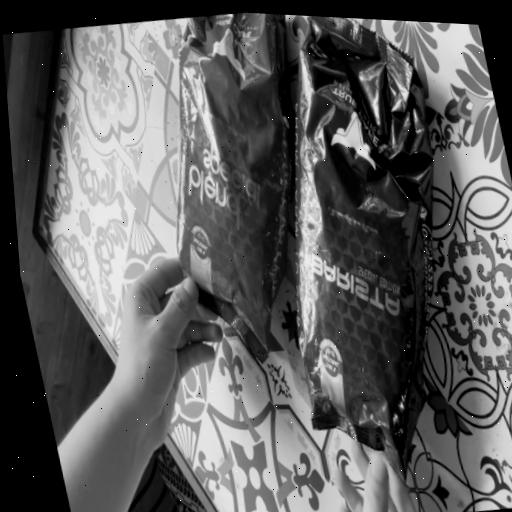cafe_hat: (295, 16, 434, 477)
cafe_xay: (176, 12, 294, 360)
